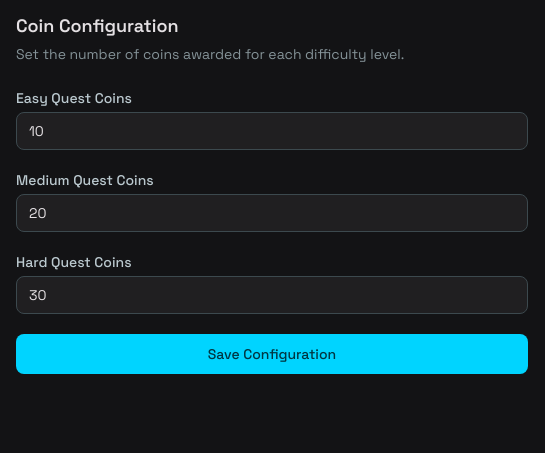
Test: CoinConfigPanel › shows error banner on save failure and retains form values
Expected: the number field labelled "Easy Quest Coins" holds "10", [16,112,528,150]
Expected: the number field labelled "Medium Quest Coins" holds "20", [16,194,528,232]
// Submit the form
Step 1. Click the button "Save Configuration" → x=272, y=354, box [16,334,528,374]
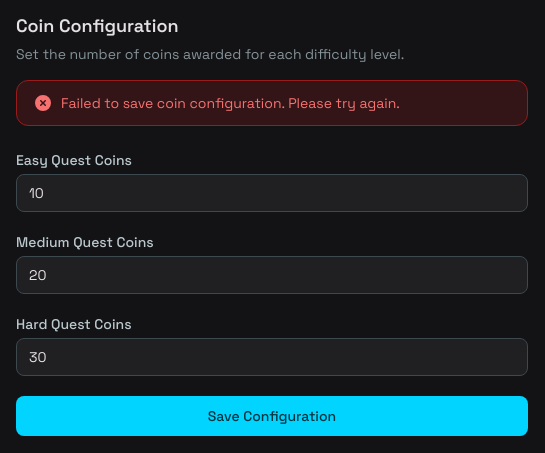
Expected: the number field labelled "Easy Quest Coins" holds "10", [16,174,528,212]
Now the text "Failed to save coin configuration. Please try again." is shown, box [61,93,400,113]
